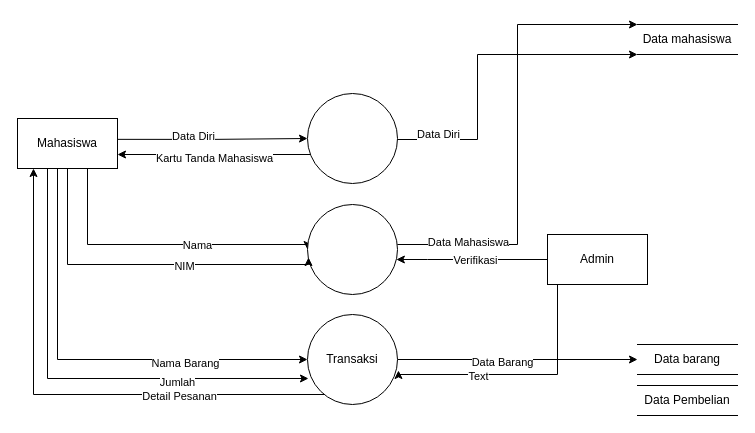
Image size: 755x433. Some labels were removed from this diagram. Here are the shapes that lost their labels. From the top down, the centre of each, then its label:
At point 352,138: "Registrasi".
At point 352,249: "Login".
